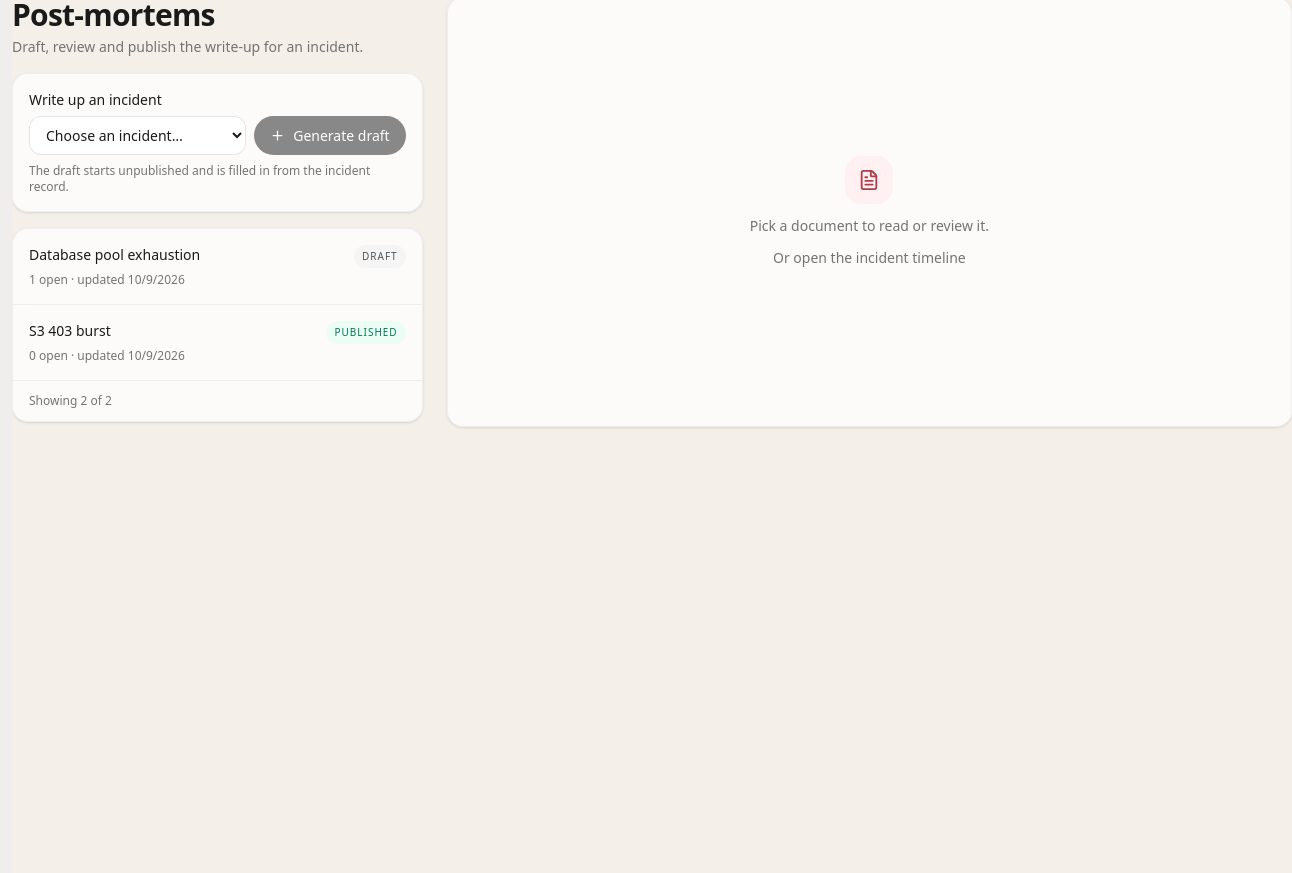
Scenario: reports a rejected save instead of pretending it worked
This screenshot has width=1292, height=873.
Step 1. Click the text "Database pool exhaustion" → [115, 255], box left=29, top=245, right=200, bottom=265
(page scrolled)
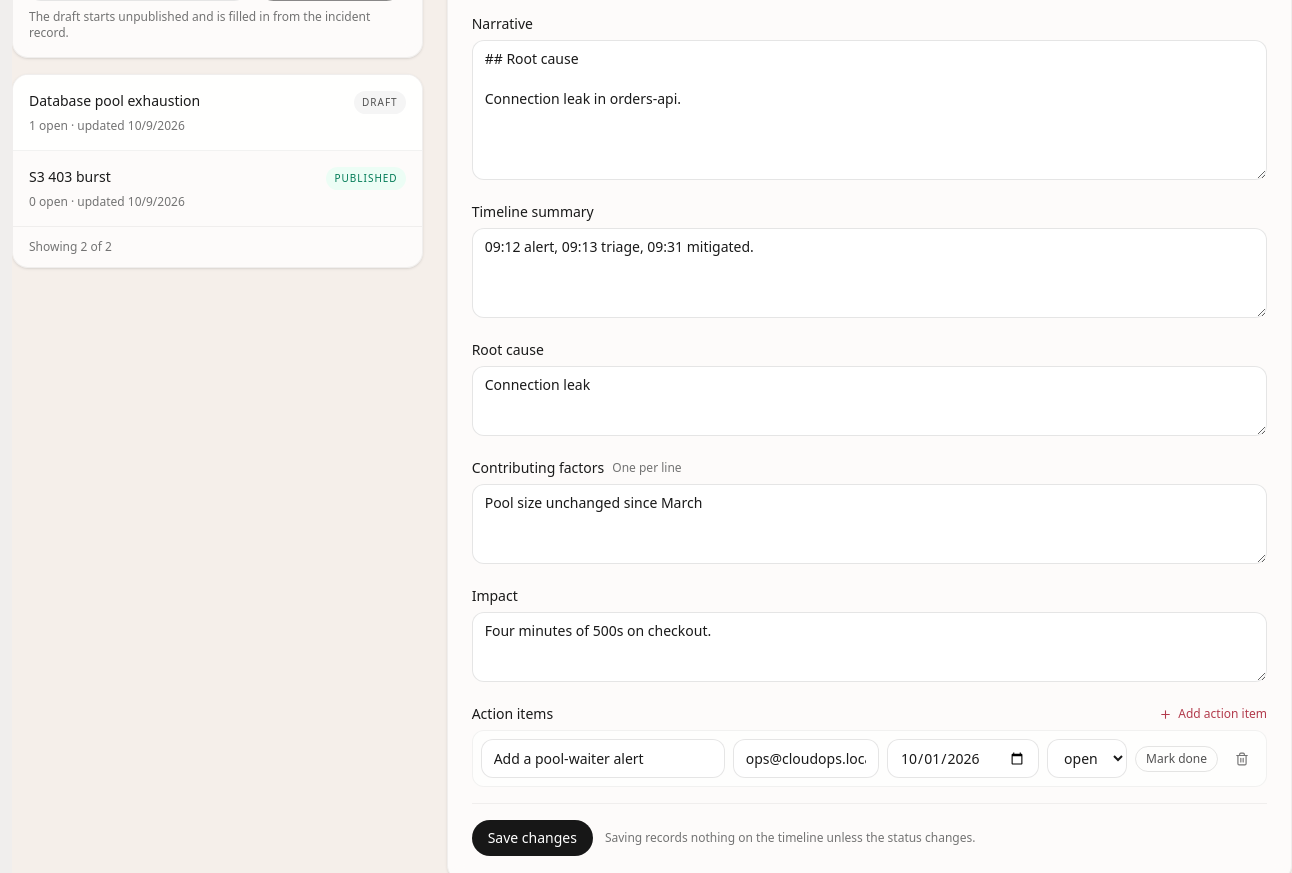
Now the text box labelled "Narrative" is shown, box left=472, top=40, right=1267, bottom=180
Step 2. Click the button "Save changes" → [532, 838], box left=472, top=820, right=593, bottom=856
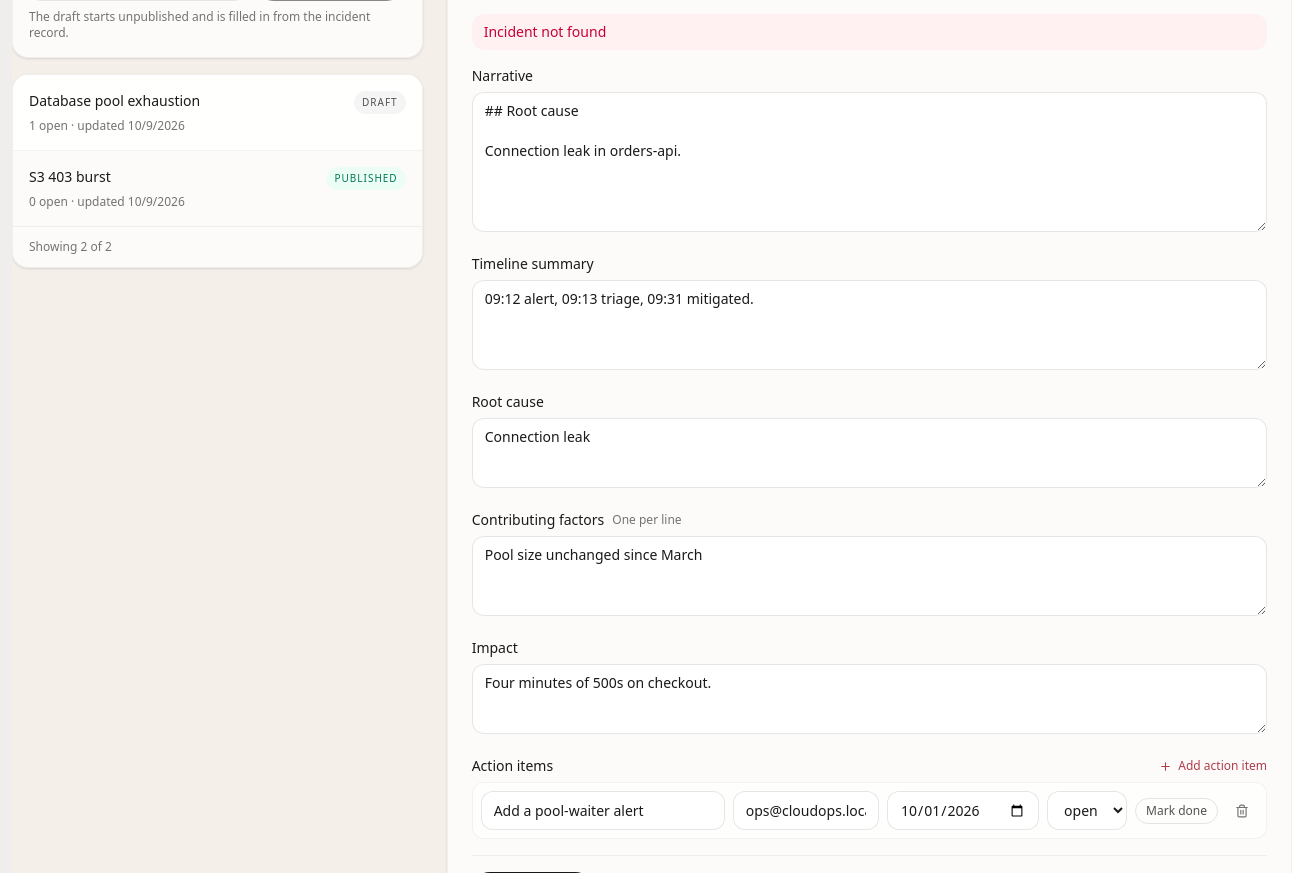
Now the message reads "Incident not found", box left=484, top=22, right=606, bottom=41
